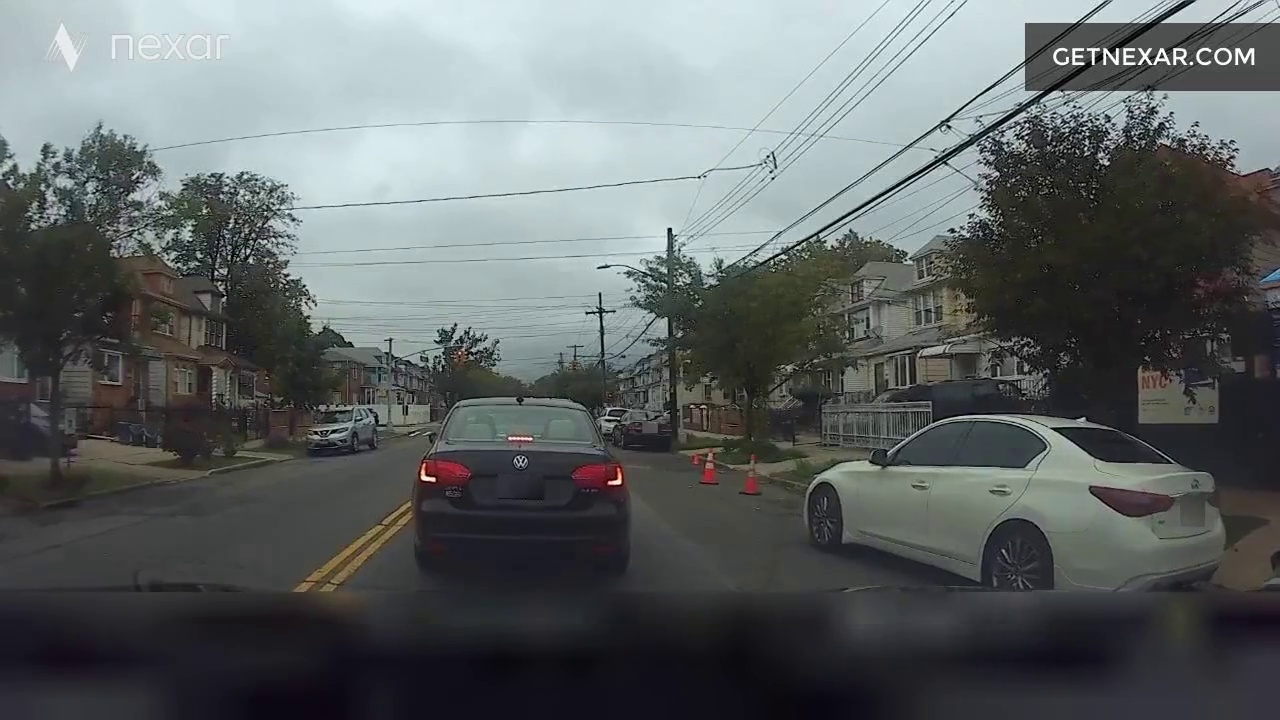car: (785, 396, 1227, 599), (416, 343, 640, 582), (2, 377, 89, 466), (288, 389, 391, 461)
